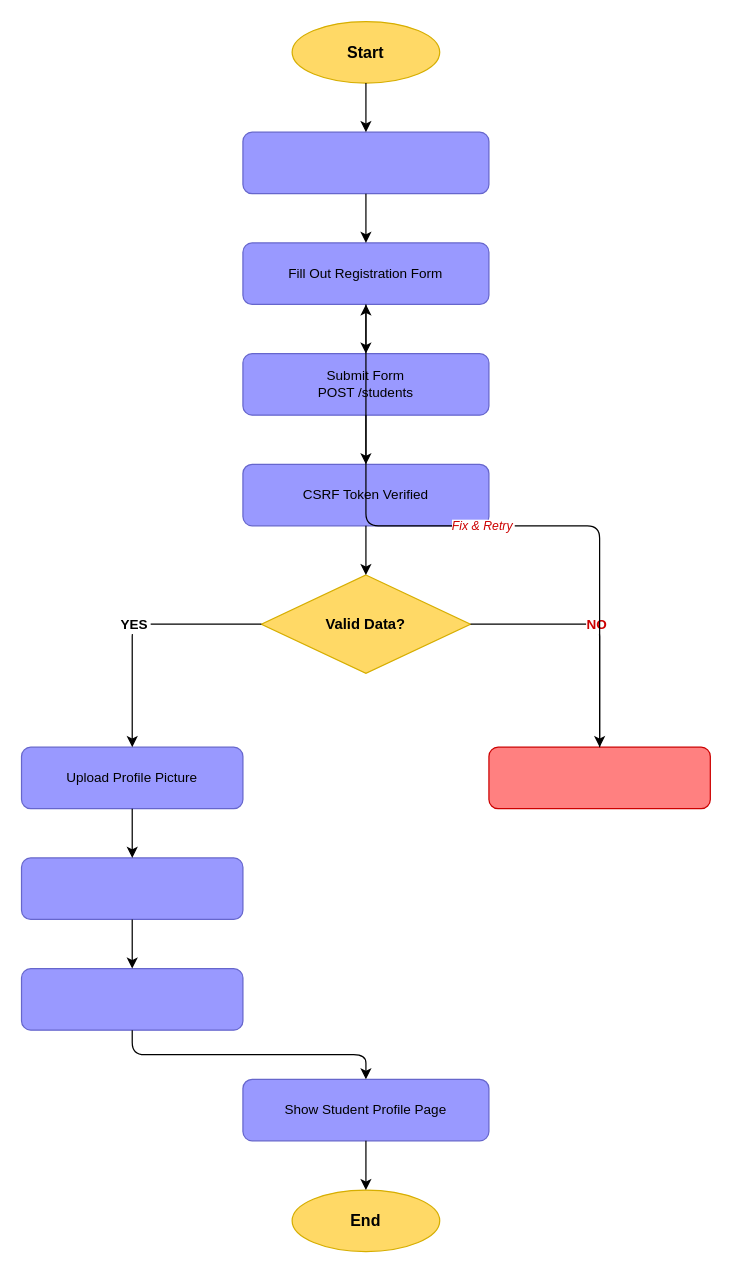
The diagram is 732 pixels wide and 1273 high, and some of its shapes have lost their labels. Here are the shapes that lost their labels. From the top down, the centre of each, then its label:
At (365,162): "User Opens Registration Page".
At (599,777): "Display Validation Errors".
At (131,888): "Save to Database".
At (131,998): "Set Flash Success Message".
